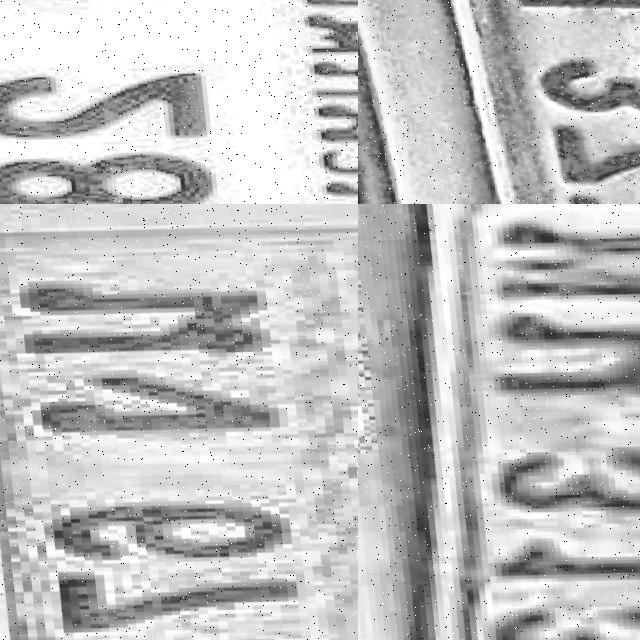license-plate: (0, 204, 358, 640), (358, 204, 640, 640), (0, 0, 358, 204), (391, 0, 640, 204)
